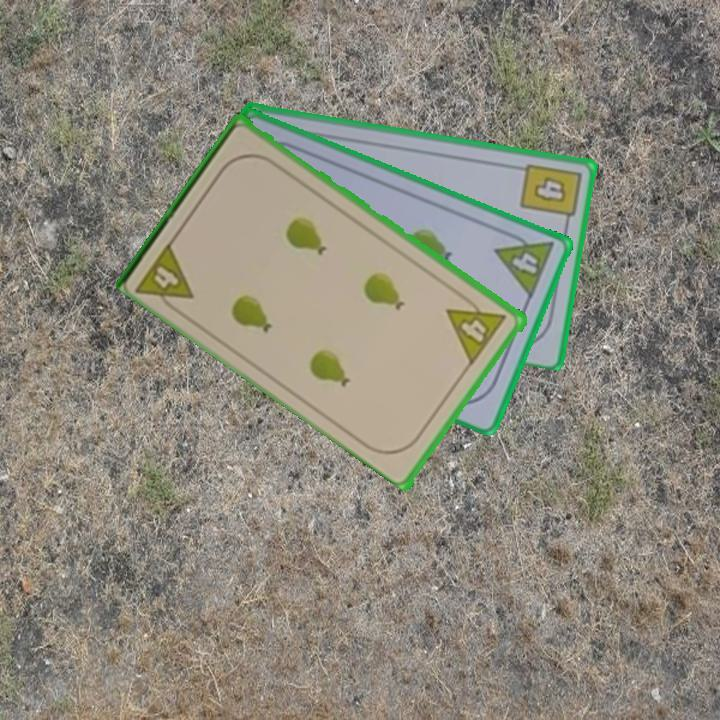4b: (516, 159, 584, 229)
4p: (133, 236, 198, 318), (444, 289, 510, 367), (491, 225, 557, 301)
